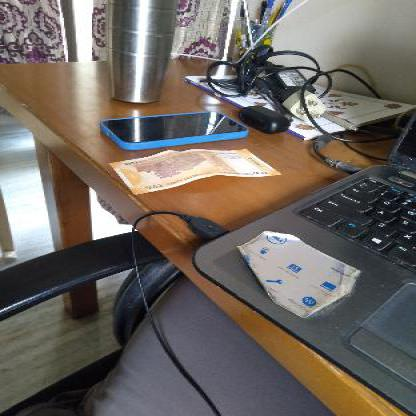New200Back: (115, 146, 277, 190)
